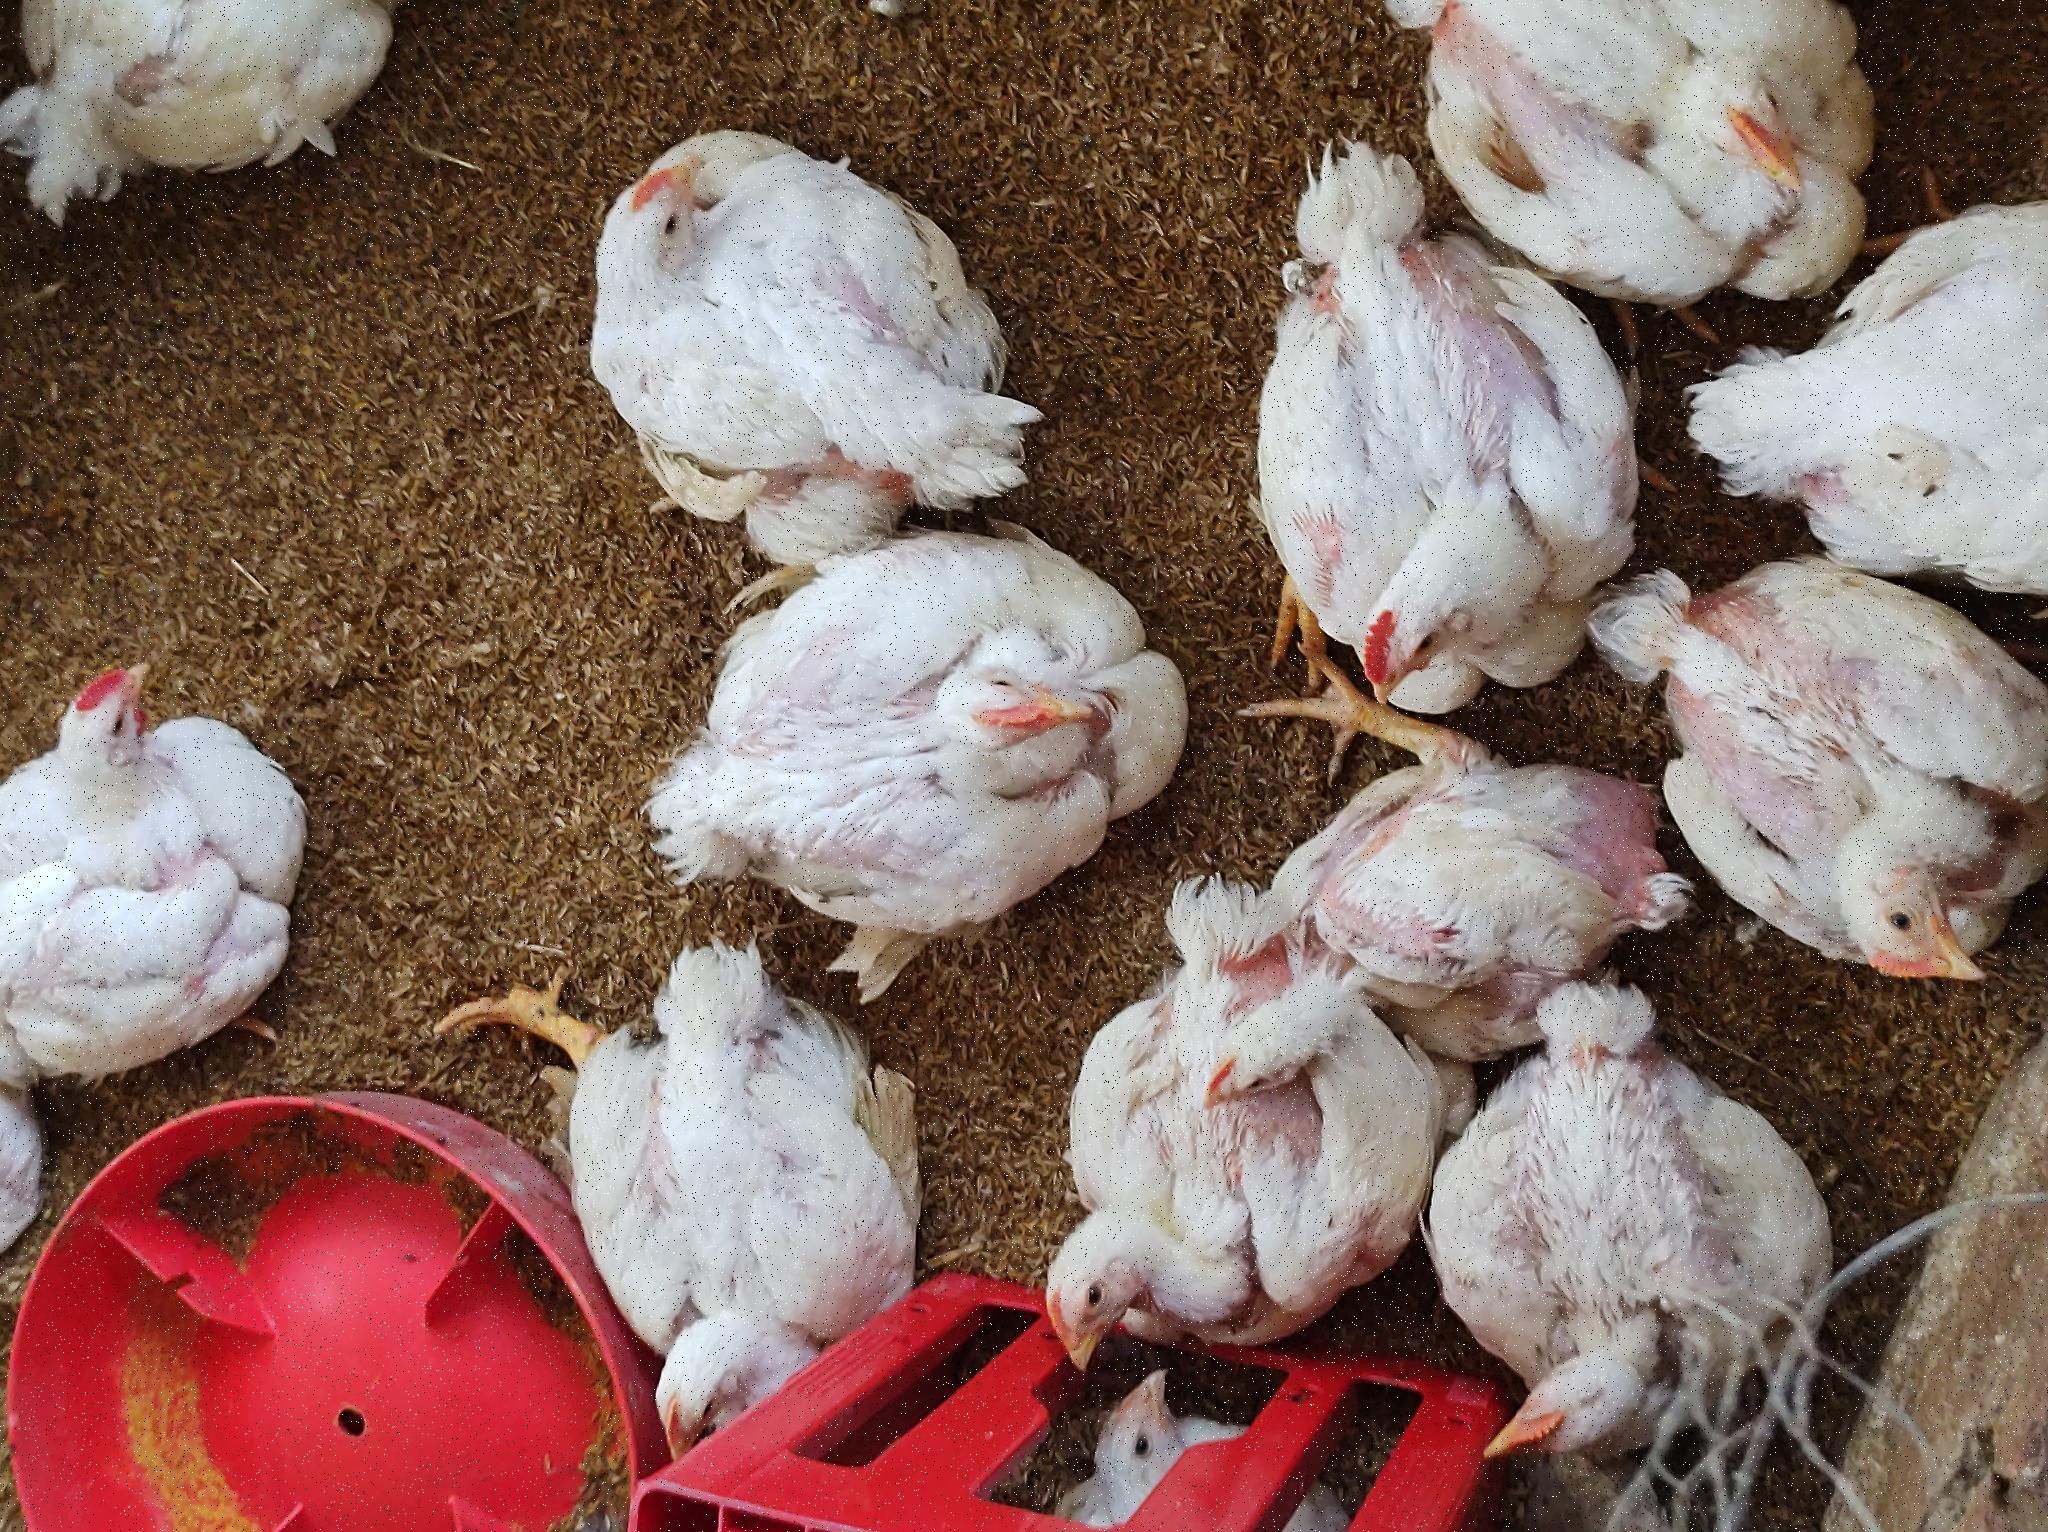Pollos: (552, 647, 1023, 1181), (1005, 558, 1427, 1020), (68, 526, 582, 900), (803, 1226, 1372, 1532), (151, 1035, 592, 1411), (417, 1173, 851, 1532), (439, 2, 915, 328), (1311, 2, 1533, 431), (1244, 1371, 1532, 1532), (34, 1442, 541, 1532), (2, 1080, 224, 1246)
